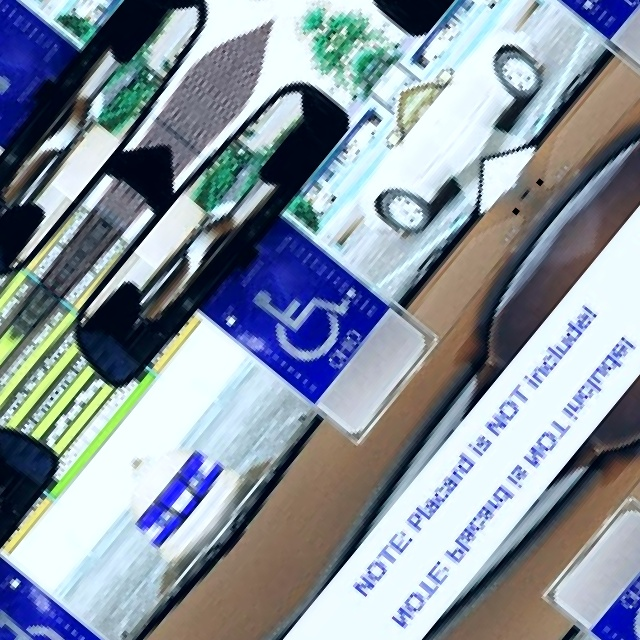ISA: (227, 238, 369, 379), (0, 0, 55, 121), (0, 582, 86, 640), (522, 0, 640, 20), (616, 557, 640, 640)
